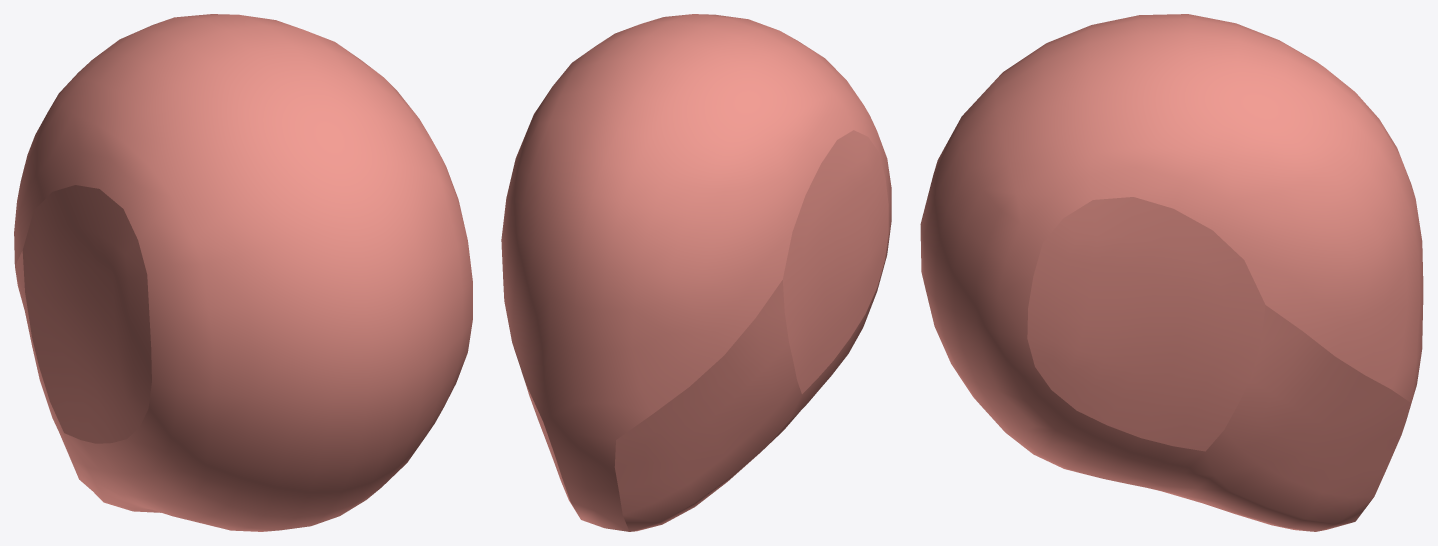
The model's file is head.glb.
3 views of the same model, side by side, from view 1: azimuth 30°, elevation 25°; view 2: azimuth 150°, elevation 25°; view 3: azimuth 270°, elevation 25° (orthographic). The views are drawn at different scales.
Parts seen in each view (by area): view 1: Beta_Surface.001; view 2: Beta_Surface.001; view 3: Beta_Surface.001.
Part boxes in pixels (x1,y1,x2,y2): Beta_Surface.001: (14,14,472,531); Beta_Surface.001: (501,14,891,531); Beta_Surface.001: (920,14,1423,531).
Size of the model in its own units: 0.1761 by 0.2665 by 0.2485.
